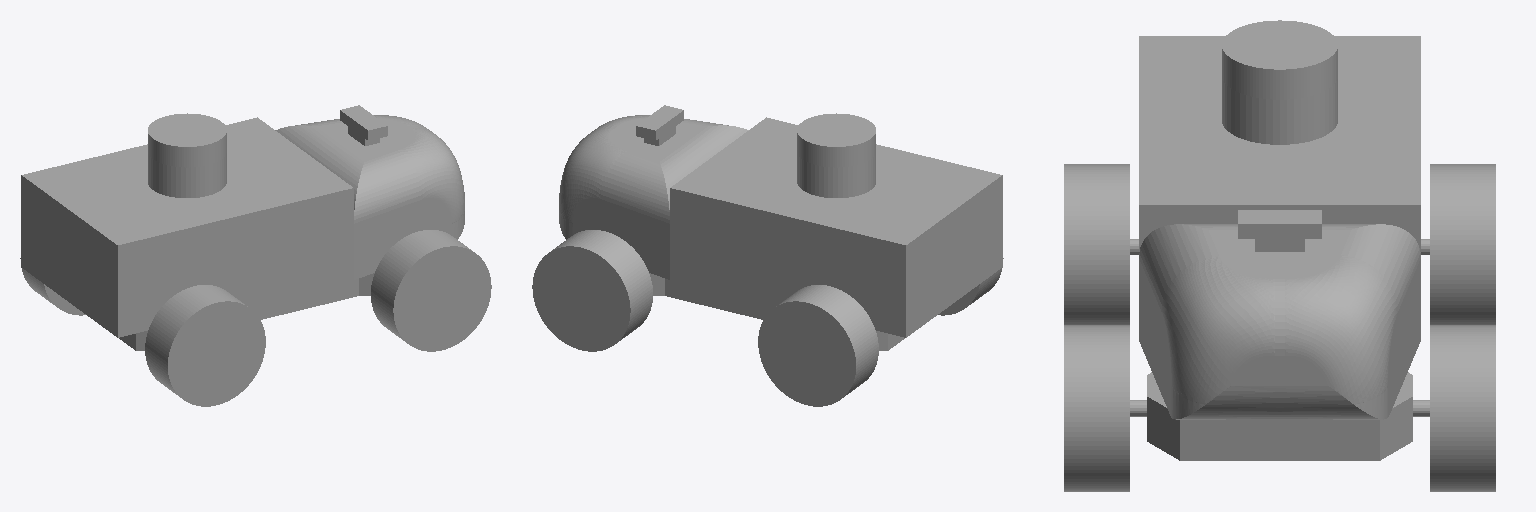
URDF robot description (robot_car_main):
<?xml version="1.0" ?>
<!-- =================================================================================== -->
<!-- |    This document was autogenerated by xacro from urdf/robot_car_main.xacro      | -->
<!-- |    EDITING THIS FILE BY HAND IS NOT RECOMMENDED                                 | -->
<!-- =================================================================================== -->
<robot xmlns:xacro="http://www.ros.org/wiki/xacro" name="robot_car_main">
  <material name="silver">
    <color rgba="0.700 0.700 0.700 1.000"/>
  </material>
  <transmission name="wheel1r_joint_tran">
    <type>transmission_interface/SimpleTransmission</type>
    <joint name="wheel1r_joint">
      <hardwareInterface>hardware_interface/EffortJointInterface</hardwareInterface>
    </joint>
    <actuator name="wheel1r_joint_actr">
      <hardwareInterface>hardware_interface/EffortJointInterface</hardwareInterface>
      <mechanicalReduction>1</mechanicalReduction>
    </actuator>
  </transmission>
  <transmission name="wheel2r_joint_tran">
    <type>transmission_interface/SimpleTransmission</type>
    <joint name="wheel2r_joint">
      <hardwareInterface>hardware_interface/EffortJointInterface</hardwareInterface>
    </joint>
    <actuator name="wheel2r_joint_actr">
      <hardwareInterface>hardware_interface/EffortJointInterface</hardwareInterface>
      <mechanicalReduction>1</mechanicalReduction>
    </actuator>
  </transmission>
  <transmission name="wheel1l_joint_tran">
    <type>transmission_interface/SimpleTransmission</type>
    <joint name="wheel1l_joint">
      <hardwareInterface>hardware_interface/EffortJointInterface</hardwareInterface>
    </joint>
    <actuator name="wheel1l_joint_actr">
      <hardwareInterface>hardware_interface/EffortJointInterface</hardwareInterface>
      <mechanicalReduction>1</mechanicalReduction>
    </actuator>
  </transmission>
  <transmission name="wheel2l_joint_tran">
    <type>transmission_interface/SimpleTransmission</type>
    <joint name="wheel2l_joint">
      <hardwareInterface>hardware_interface/EffortJointInterface</hardwareInterface>
    </joint>
    <actuator name="wheel2l_joint_actr">
      <hardwareInterface>hardware_interface/EffortJointInterface</hardwareInterface>
      <mechanicalReduction>1</mechanicalReduction>
    </actuator>
  </transmission>
  <transmission name="lidar_joint_tran">
    <type>transmission_interface/SimpleTransmission</type>
    <joint name="lidar_joint">
      <hardwareInterface>hardware_interface/EffortJointInterface</hardwareInterface>
    </joint>
    <actuator name="lidar_joint_actr">
      <hardwareInterface>hardware_interface/EffortJointInterface</hardwareInterface>
      <mechanicalReduction>1</mechanicalReduction>
    </actuator>
  </transmission>
  <gazebo>
    <plugin name="control" filename="libgazebo_ros_control.so"/>
  </gazebo>
  <gazebo reference="base_link">
    <material>Gazebo/Silver</material>
    <mu1>0.2</mu1>
    <mu2>0.2</mu2>
    <selfCollide>true</selfCollide>
    <gravity>true</gravity>
  </gazebo>
  <gazebo reference="wheel1r_link_1">
    <material>Gazebo/Silver</material>
    <mu1>0.2</mu1>
    <mu2>0.2</mu2>
    <selfCollide>true</selfCollide>
  </gazebo>
  <gazebo reference="wheel2r_link_1">
    <material>Gazebo/Silver</material>
    <mu1>0.2</mu1>
    <mu2>0.2</mu2>
    <selfCollide>true</selfCollide>
  </gazebo>
  <gazebo reference="wheel2l_link_1">
    <material>Gazebo/Silver</material>
    <mu1>0.2</mu1>
    <mu2>0.2</mu2>
    <selfCollide>true</selfCollide>
  </gazebo>
  <gazebo reference="wheel1l_link_1">
    <material>Gazebo/Silver</material>
    <mu1>0.2</mu1>
    <mu2>0.2</mu2>
    <selfCollide>true</selfCollide>
  </gazebo>
  <gazebo reference="lidar_1">
    <material>Gazebo/Silver</material>
    <mu1>0.2</mu1>
    <mu2>0.2</mu2>
    <selfCollide>true</selfCollide>
  </gazebo>
  <gazebo reference="camera_1">
    <material>Gazebo/Silver</material>
    <mu1>0.2</mu1>
    <mu2>0.2</mu2>
    <selfCollide>true</selfCollide>
  </gazebo>
  <link name="base_link">
    <inertial>
      <origin xyz="-0.012120670854416947 -1.2159284448809133e-05 0.06395651914510171" rpy="0 0 0"/>
      <mass value="52.52511668817294"/>
      <inertia ixx="0.168446" iyy="0.608066" izz="0.654472" ixy="8.8e-05" iyz="5e-06" ixz="0.014195"/>
    </inertial>
    <visual>
      <origin xyz="0 0 0" rpy="0 0 0"/>
      <geometry>
        <mesh filename="package://delivery_robot_description/meshes/base_link.stl" scale="0.001 0.001 0.001"/>
      </geometry>
      <material name="silver"/>
    </visual>
    <collision>
      <origin xyz="0 0 0" rpy="0 0 0"/>
      <geometry>
        <mesh filename="package://delivery_robot_description/meshes/base_link.stl" scale="0.001 0.001 0.001"/>
      </geometry>
    </collision>
  </link>
  <link name="wheel1r_link_1">
    <inertial>
      <origin xyz="1.713633512867574e-09 -0.020000000000000004 2.235174146464347e-10" rpy="0 0 0"/>
      <mass value="2.4661502330679874"/>
      <inertia ixx="0.00187" iyy="0.003083" izz="0.00187" ixy="0.0" iyz="0.0" ixz="-0.0"/>
    </inertial>
    <visual>
      <origin xyz="-0.115 0.09 -0.015" rpy="0 0 0"/>
      <geometry>
        <mesh filename="package://delivery_robot_description/meshes/wheel1r_link_1.stl" scale="0.001 0.001 0.001"/>
      </geometry>
      <material name="silver"/>
    </visual>
    <collision>
      <origin xyz="-0.115 0.09 -0.015" rpy="0 0 0"/>
      <geometry>
        <mesh filename="package://delivery_robot_description/meshes/wheel1r_link_1.stl" scale="0.001 0.001 0.001"/>
      </geometry>
    </collision>
  </link>
  <link name="wheel2r_link_1">
    <inertial>
      <origin xyz="-1.7136335545009374e-09 -0.020000000000000004 2.235174146464347e-10" rpy="0 0 0"/>
      <mass value="2.4661502330679874"/>
      <inertia ixx="0.00187" iyy="0.003083" izz="0.00187" ixy="0.0" iyz="-0.0" ixz="-0.0"/>
    </inertial>
    <visual>
      <origin xyz="0.115 0.09 -0.015" rpy="0 0 0"/>
      <geometry>
        <mesh filename="package://delivery_robot_description/meshes/wheel2r_link_1.stl" scale="0.001 0.001 0.001"/>
      </geometry>
      <material name="silver"/>
    </visual>
    <collision>
      <origin xyz="0.115 0.09 -0.015" rpy="0 0 0"/>
      <geometry>
        <mesh filename="package://delivery_robot_description/meshes/wheel2r_link_1.stl" scale="0.001 0.001 0.001"/>
      </geometry>
    </collision>
  </link>
  <link name="wheel2l_link_1">
    <inertial>
      <origin xyz="-1.7136335545009374e-09 0.01999999999999999 2.235174146464347e-10" rpy="0 0 0"/>
      <mass value="2.4661502330679874"/>
      <inertia ixx="0.00187" iyy="0.003083" izz="0.00187" ixy="0.0" iyz="0.0" ixz="-0.0"/>
    </inertial>
    <visual>
      <origin xyz="0.115 -0.09 -0.015" rpy="0 0 0"/>
      <geometry>
        <mesh filename="package://delivery_robot_description/meshes/wheel2l_link_1.stl" scale="0.001 0.001 0.001"/>
      </geometry>
      <material name="silver"/>
    </visual>
    <collision>
      <origin xyz="0.115 -0.09 -0.015" rpy="0 0 0"/>
      <geometry>
        <mesh filename="package://delivery_robot_description/meshes/wheel2l_link_1.stl" scale="0.001 0.001 0.001"/>
      </geometry>
    </collision>
  </link>
  <link name="wheel1l_link_1">
    <inertial>
      <origin xyz="1.713633512867574e-09 0.01999999999999999 2.235174146464347e-10" rpy="0 0 0"/>
      <mass value="2.4661502330679874"/>
      <inertia ixx="0.00187" iyy="0.003083" izz="0.00187" ixy="-0.0" iyz="0.0" ixz="-0.0"/>
    </inertial>
    <visual>
      <origin xyz="-0.115 -0.09 -0.015" rpy="0 0 0"/>
      <geometry>
        <mesh filename="package://delivery_robot_description/meshes/wheel1l_link_1.stl" scale="0.001 0.001 0.001"/>
      </geometry>
      <material name="silver"/>
    </visual>
    <collision>
      <origin xyz="-0.115 -0.09 -0.015" rpy="0 0 0"/>
      <geometry>
        <mesh filename="package://delivery_robot_description/meshes/wheel1l_link_1.stl" scale="0.001 0.001 0.001"/>
      </geometry>
    </collision>
  </link>
  <link name="lidar_1">
    <inertial>
      <origin xyz="0.0 -7.385233546074016e-18 0.010000000000000037" rpy="0 0 0"/>
      <mass value="0.604206807101657"/>
      <inertia ixx="0.000205" iyy="0.000205" izz="0.00037" ixy="0.0" iyz="0.0" ixz="-0.0"/>
    </inertial>
    <visual>
      <origin xyz="0.07 -0.0 -0.15" rpy="0 0 0"/>
      <geometry>
        <mesh filename="package://delivery_robot_description/meshes/lidar_1.stl" scale="0.001 0.001 0.001"/>
      </geometry>
      <material name="silver"/>
    </visual>
    <collision>
      <origin xyz="0.07 -0.0 -0.15" rpy="0 0 0"/>
      <geometry>
        <mesh filename="package://delivery_robot_description/meshes/lidar_1.stl" scale="0.001 0.001 0.001"/>
      </geometry>
    </collision>
  </link>
  <link name="camera_1">
    <inertial>
      <origin xyz="0.0 0.0 0.0050000000000000044" rpy="0 0 0"/>
      <mass value="0.07849999999999999"/>
      <inertia ixx="1.7e-05" iyy="3e-06" izz="1.9e-05" ixy="0.0" iyz="0.0" ixz="-0.0"/>
    </inertial>
    <visual>
      <origin xyz="-0.11 -0.0 -0.13" rpy="0 0 0"/>
      <geometry>
        <mesh filename="package://delivery_robot_description/meshes/camera_1.stl" scale="0.001 0.001 0.001"/>
      </geometry>
      <material name="silver"/>
    </visual>
    <collision>
      <origin xyz="-0.11 -0.0 -0.13" rpy="0 0 0"/>
      <geometry>
        <mesh filename="package://delivery_robot_description/meshes/camera_1.stl" scale="0.001 0.001 0.001"/>
      </geometry>
    </collision>
  </link>
  <!-- Front Right Wheel -->
  <joint name="wheel1r_joint" type="continuous">
    <origin xyz="0.115 -0.09 0.015" rpy="0 0 0"/>
    <parent link="base_link"/>
    <child link="wheel1r_link_1"/>
    <axis xyz="0 1 0"/>
  </joint>

  <!-- Rear Right Wheel -->
  <joint name="wheel2r_joint" type="continuous">
    <origin xyz="-0.115 -0.09 0.015" rpy="0 0 0"/>
    <parent link="base_link"/>
    <child link="wheel2r_link_1"/>
    <axis xyz="0 1 0"/>
  </joint>

  <!-- Front Left Wheel -->
  <joint name="wheel1l_joint" type="continuous">
    <origin xyz="0.115 0.09 0.015" rpy="0 0 0"/>
    <parent link="base_link"/>
    <child link="wheel1l_link_1"/>
    <axis xyz="0 1 0"/>
  </joint>

  <!-- Rear Left Wheel -->
  <joint name="wheel2l_joint" type="continuous">
    <origin xyz="-0.115 0.09 0.015" rpy="0 0 0"/>
    <parent link="base_link"/>
    <child link="wheel2l_link_1"/>
    <axis xyz="0 1 0"/>
  </joint>
  <joint name="lidar_joint" type="continuous">
    <origin xyz="-0.07 0.0 0.15" rpy="0 0 0"/>
    <parent link="base_link"/>
    <child link="lidar_1"/>
    <axis xyz="0.0 0.0 1.0"/>
  </joint>
  <joint name="camera_joint" type="fixed">
    <origin xyz="0.11 0.0 0.13" rpy="0 0 0"/>
    <parent link="base_link"/>
    <child link="camera_1"/>
  </joint>
</robot>

--- Render facts (derived) ---
The picture shows the robot from 3 angles, left to right: view 1: azimuth 30°, elevation 25°; view 2: azimuth 150°, elevation 25°; view 3: azimuth 270°, elevation 25°; orthographic projection.
Robot: robot_car_main — 7 links, 6 joints (5 continuous, 1 fixed); root link base_link; default pose: every joint at zero.
Links seen in each view (by area): view 1: base_link, wheel2r_link_1, wheel1r_link_1, lidar_1, camera_1, wheel2l_link_1; view 2: base_link, wheel2l_link_1, wheel1l_link_1, lidar_1, camera_1, wheel2r_link_1; view 3: base_link, wheel1r_link_1, wheel1l_link_1, wheel2r_link_1, wheel2l_link_1, lidar_1, camera_1.
Boxes of the visible links, x1=… form: base_link: x1=21, y1=115, x2=464, y2=350; wheel2r_link_1: x1=145, y1=285, x2=265, y2=406; wheel1r_link_1: x1=371, y1=230, x2=491, y2=351; lidar_1: x1=148, y1=113, x2=226, y2=167; camera_1: x1=340, y1=105, x2=387, y2=140; wheel2l_link_1: x1=20, y1=258, x2=85, y2=315; base_link: x1=559, y1=115, x2=1002, y2=350; wheel2l_link_1: x1=758, y1=285, x2=878, y2=406; wheel1l_link_1: x1=532, y1=230, x2=652, y2=351; lidar_1: x1=797, y1=113, x2=875, y2=167; camera_1: x1=636, y1=105, x2=683, y2=140; wheel2r_link_1: x1=938, y1=258, x2=1003, y2=315; base_link: x1=1130, y1=36, x2=1429, y2=460; wheel1r_link_1: x1=1064, y1=325, x2=1129, y2=491; wheel1l_link_1: x1=1430, y1=325, x2=1495, y2=491; wheel2r_link_1: x1=1064, y1=164, x2=1129, y2=324; wheel2l_link_1: x1=1430, y1=164, x2=1495, y2=324; lidar_1: x1=1222, y1=20, x2=1337, y2=99; camera_1: x1=1238, y1=210, x2=1321, y2=238.
Size in the robot's own frame: 0.3802 by 0.26 by 0.205 metres.
Meshes: 7 distinct files referenced, 7 mesh visuals loaded (7 binary STL).
